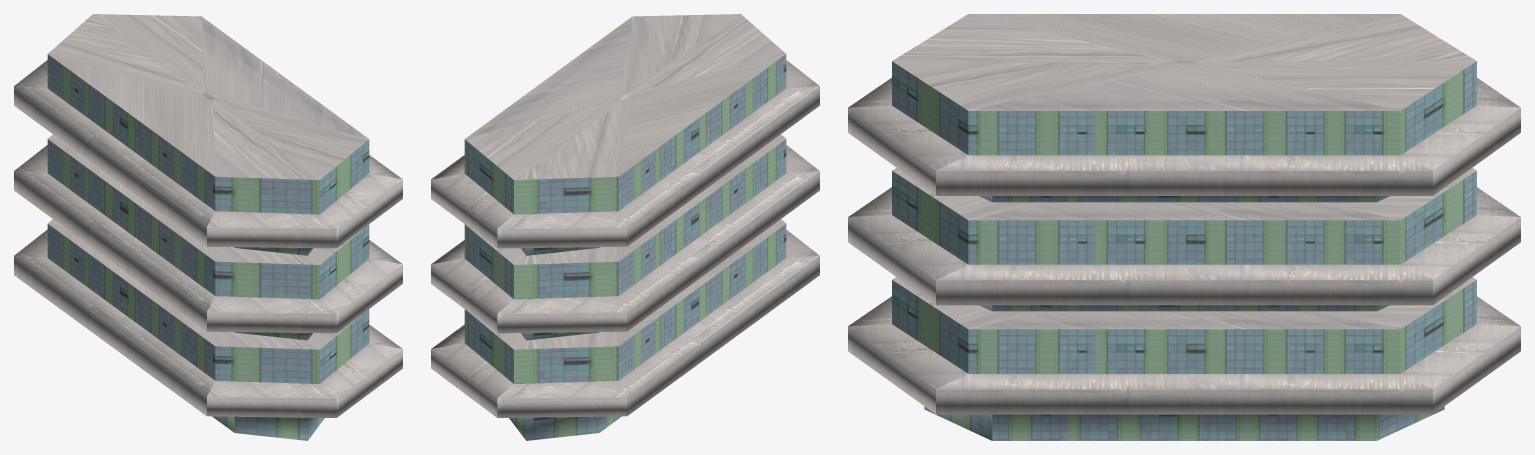
File: WeirdBuilding_Broad.fbx
3 views of the same model, side by side, from view 1: azimuth 30°, elevation 25°; view 2: azimuth 150°, elevation 25°; view 3: azimuth 270°, elevation 25° (orthographic). The views are drawn at different scales.
Parts seen in each view (by area): view 1: pCube394; view 2: pCube394; view 3: pCube394.
Boxes of the visible parts, left/top/right/bottom form: pCube394: left=14, top=14, right=402, bottom=440; pCube394: left=431, top=14, right=819, bottom=440; pCube394: left=848, top=14, right=1520, bottom=440.
Size of the model in its own units: 10.24 by 13.48 by 23.61.
